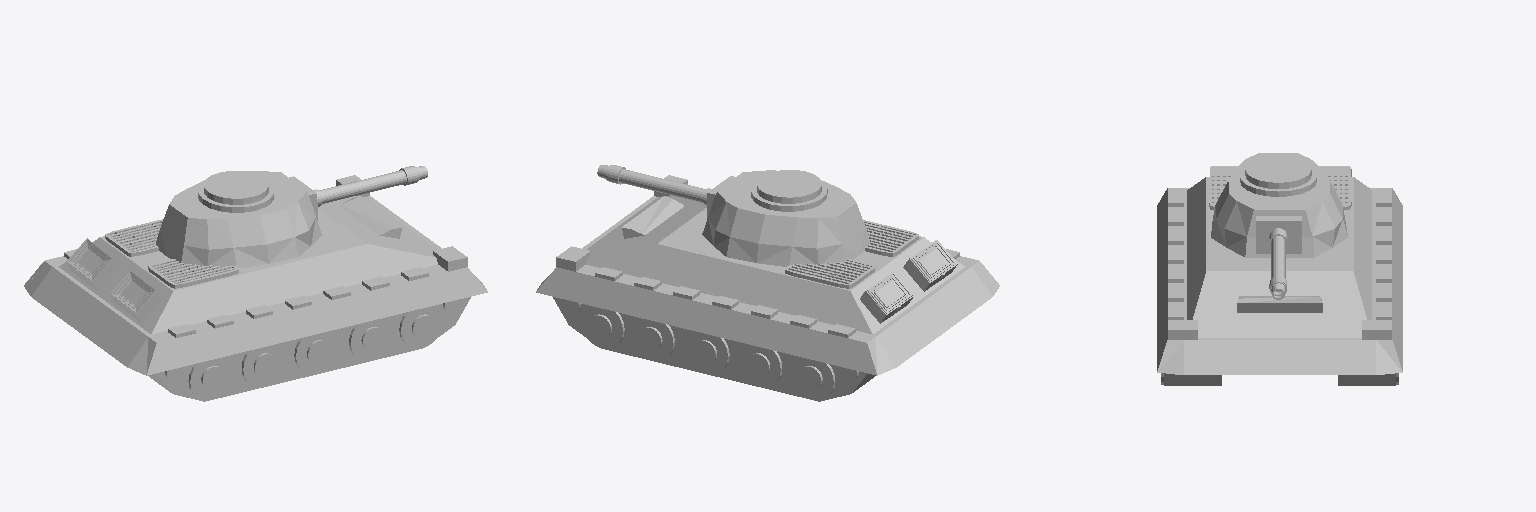
Rendered from Tank_Rebel_New.obj.
3 views of the same model, side by side, from view 1: azimuth 30°, elevation 25°; view 2: azimuth 150°, elevation 25°; view 3: azimuth 270°, elevation 25° (orthographic).
Visible parts, largest first — view 1: Tank_Rebel_New, Tank_Rebel_New Tank_Rebel_New_Turret; view 2: Tank_Rebel_New, Tank_Rebel_New Tank_Rebel_New_Turret; view 3: Tank_Rebel_New, Tank_Rebel_New Tank_Rebel_New_Turret.
Boxes of the visible parts, box(x1,y1,x2,y2) form: Tank_Rebel_New: box(24, 175, 487, 401); Tank_Rebel_New Tank_Rebel_New_Turret: box(156, 166, 427, 267); Tank_Rebel_New: box(536, 175, 999, 401); Tank_Rebel_New Tank_Rebel_New_Turret: box(597, 165, 869, 266); Tank_Rebel_New: box(1157, 166, 1402, 385); Tank_Rebel_New Tank_Rebel_New_Turret: box(1211, 153, 1347, 299).
Size of the model in its own units: 7.53 by 3.12 by 4.53.